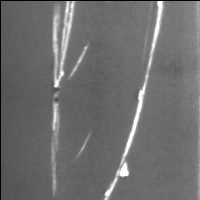scratches: (103, 2, 166, 200), (49, 2, 89, 196)
